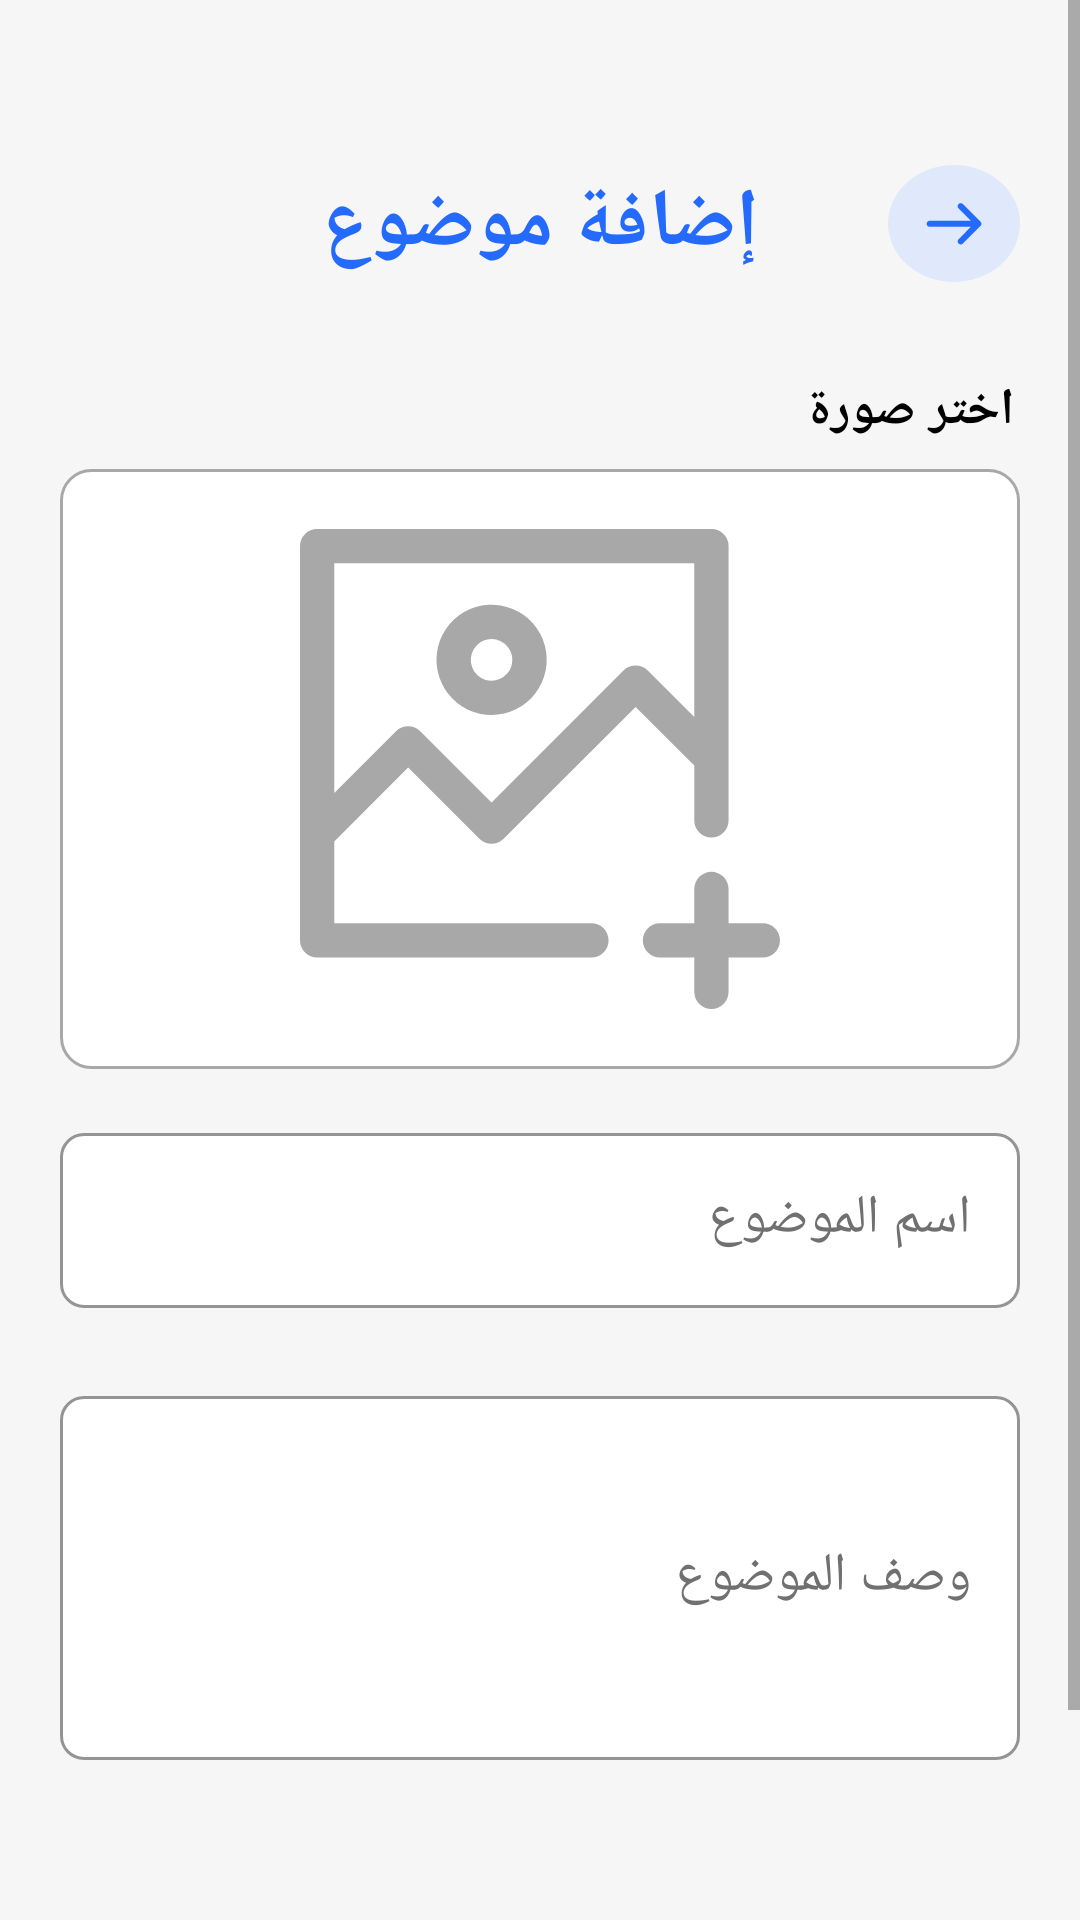

Locate icon controls on the screen. Image size 1080 x 1920, boxes as (x1, y1, x2, y2).
arrow: (888, 165, 1020, 282)
